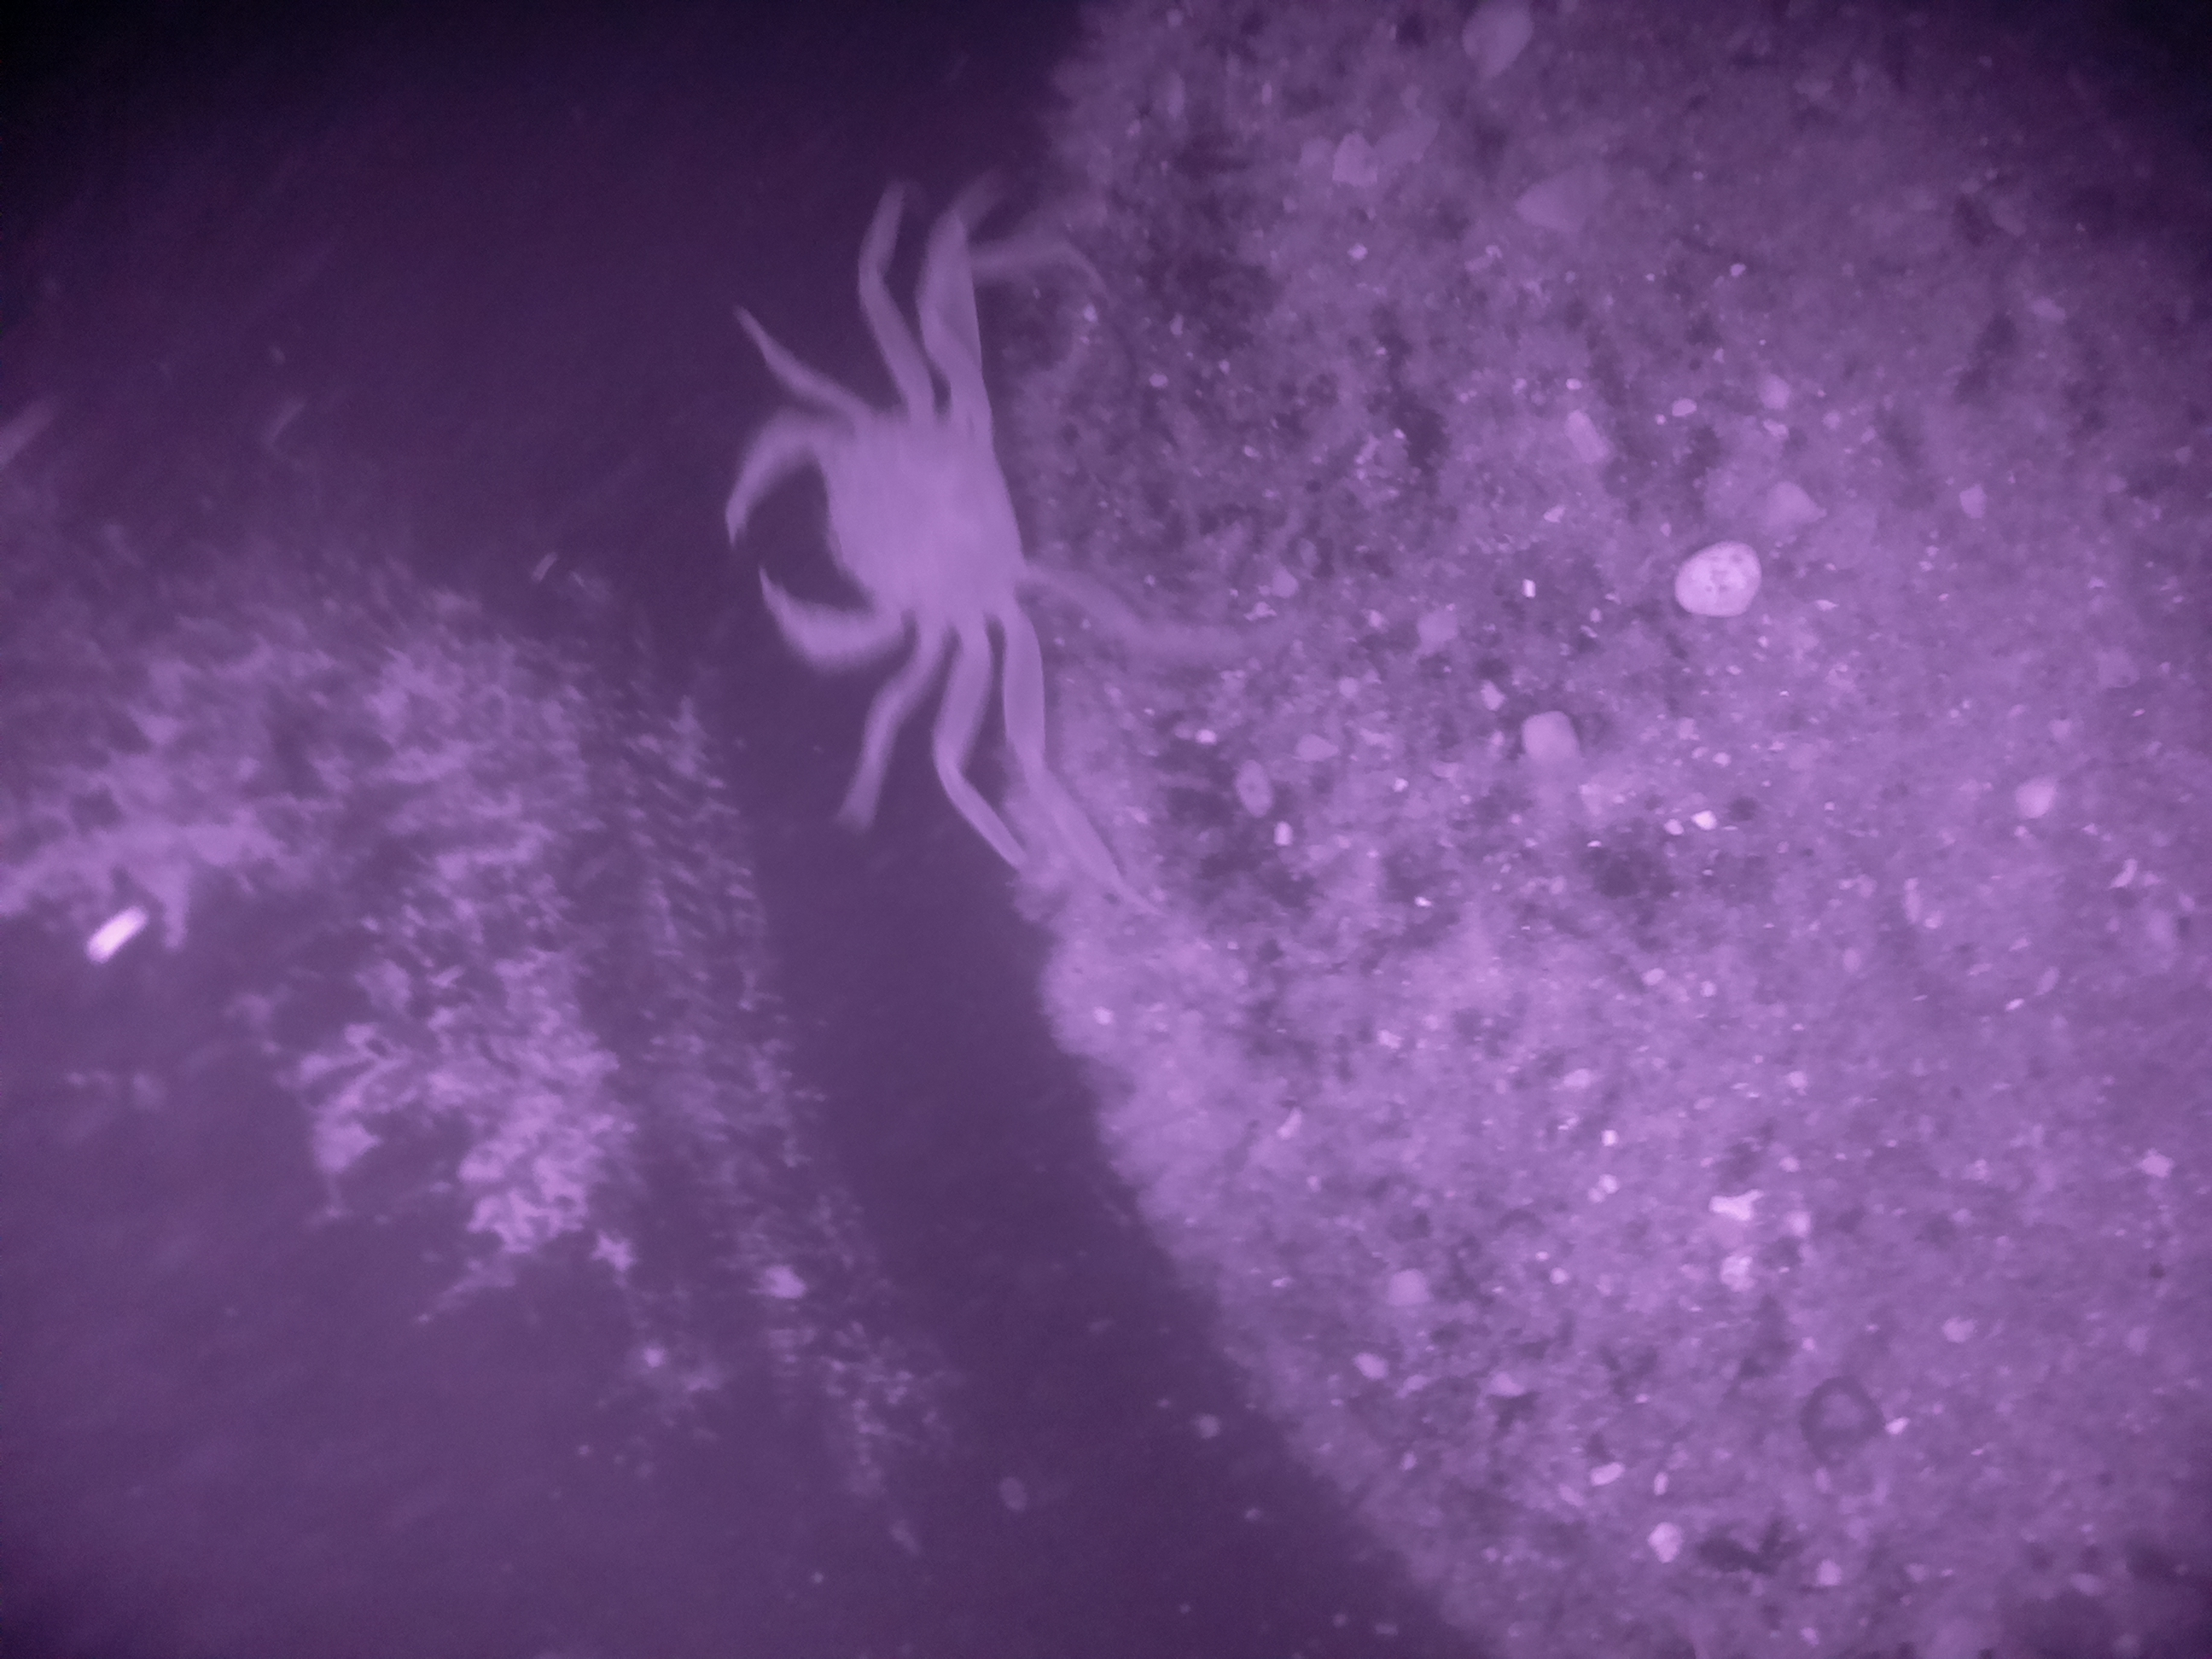Crab: (676, 277, 1183, 763)
